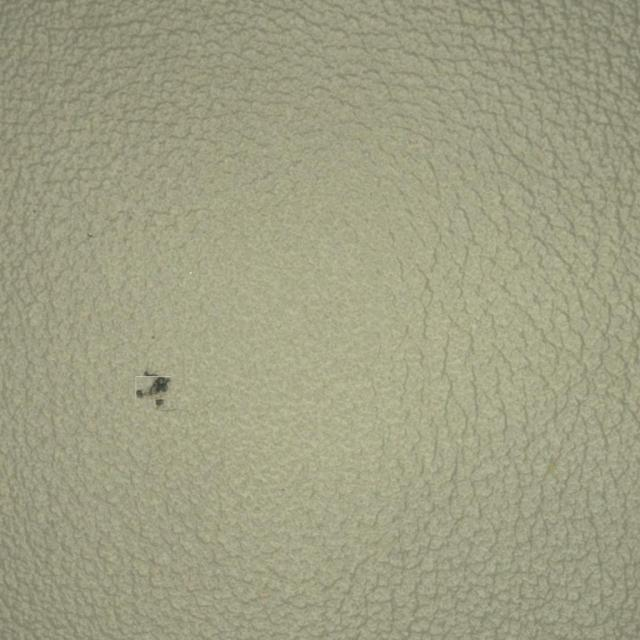Hole: (61, 314, 254, 464)
